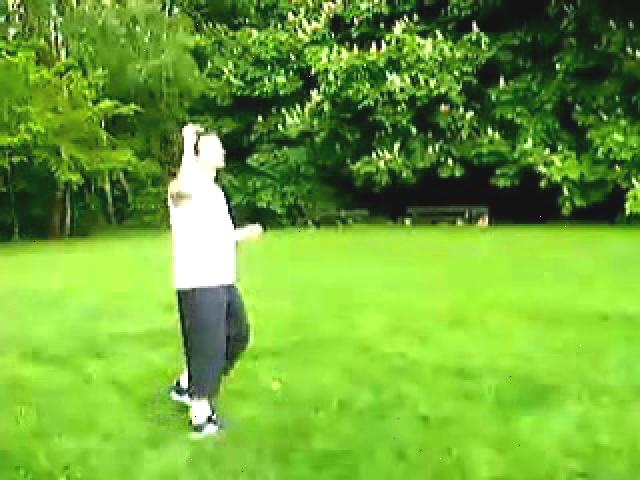T: (141, 111, 276, 453)
